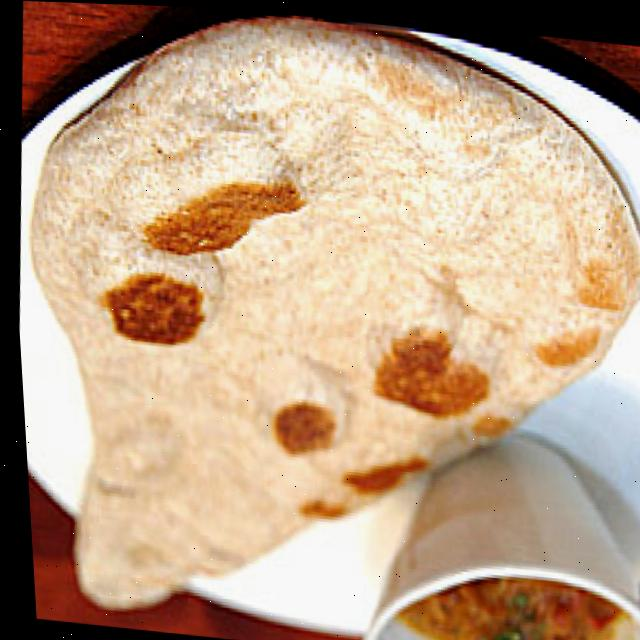牛肉菜式: (343, 430, 640, 640)
